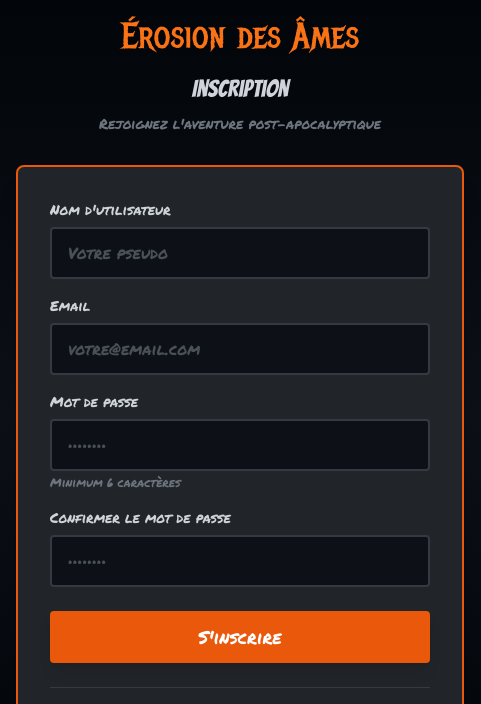
Register › should display error for short password
This screenshot has width=481, height=704.
Type "testuser" into the field labelled "Nom d'utilisateur". click: point(240, 253)
box: [50,227,430,279]
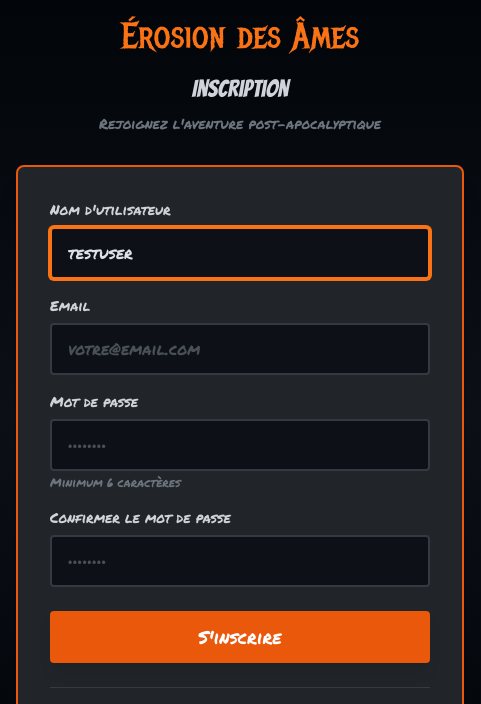
Type "test@test.com" into the field labelled "Email". click: point(240, 349)
box: [50,323,430,375]
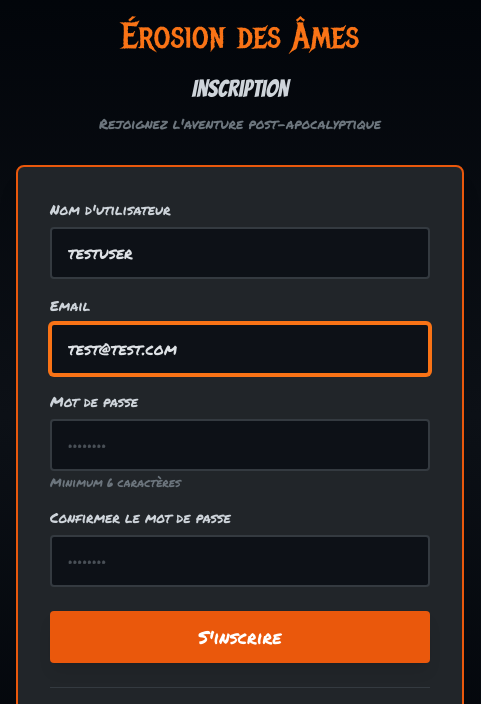
Type "123" into the password field labelled "Mot de passe". click: point(240, 445)
box: [50,419,430,471]
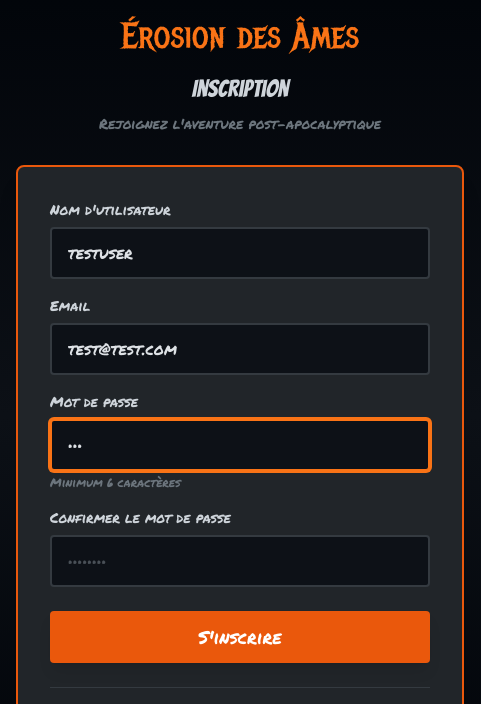
Type "123" into the password field labelled "Confirmer le mot de passe". click: point(240, 561)
box: [50,535,430,587]
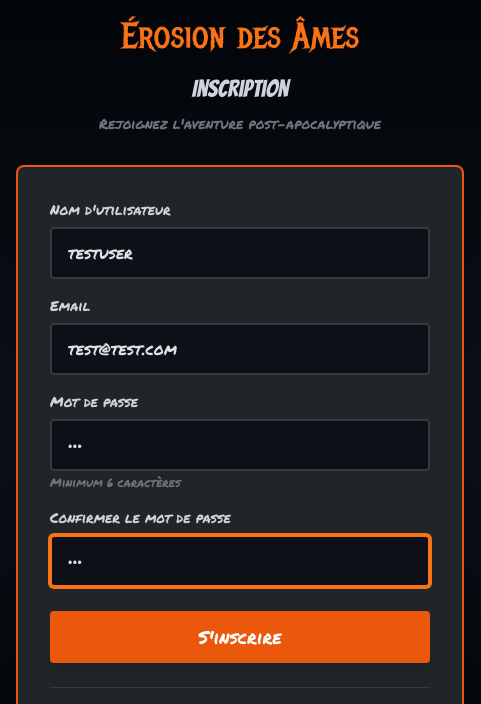
Click the button "S'inscrire". click: point(240, 637)
box: [50,611,430,663]
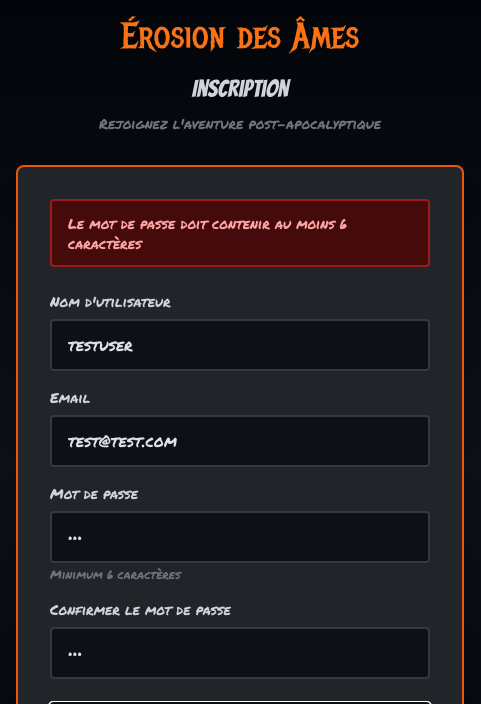
Result: the text "Le mot de passe doit contenir au moins 6 caractères" is shown at [50,199,430,267]
